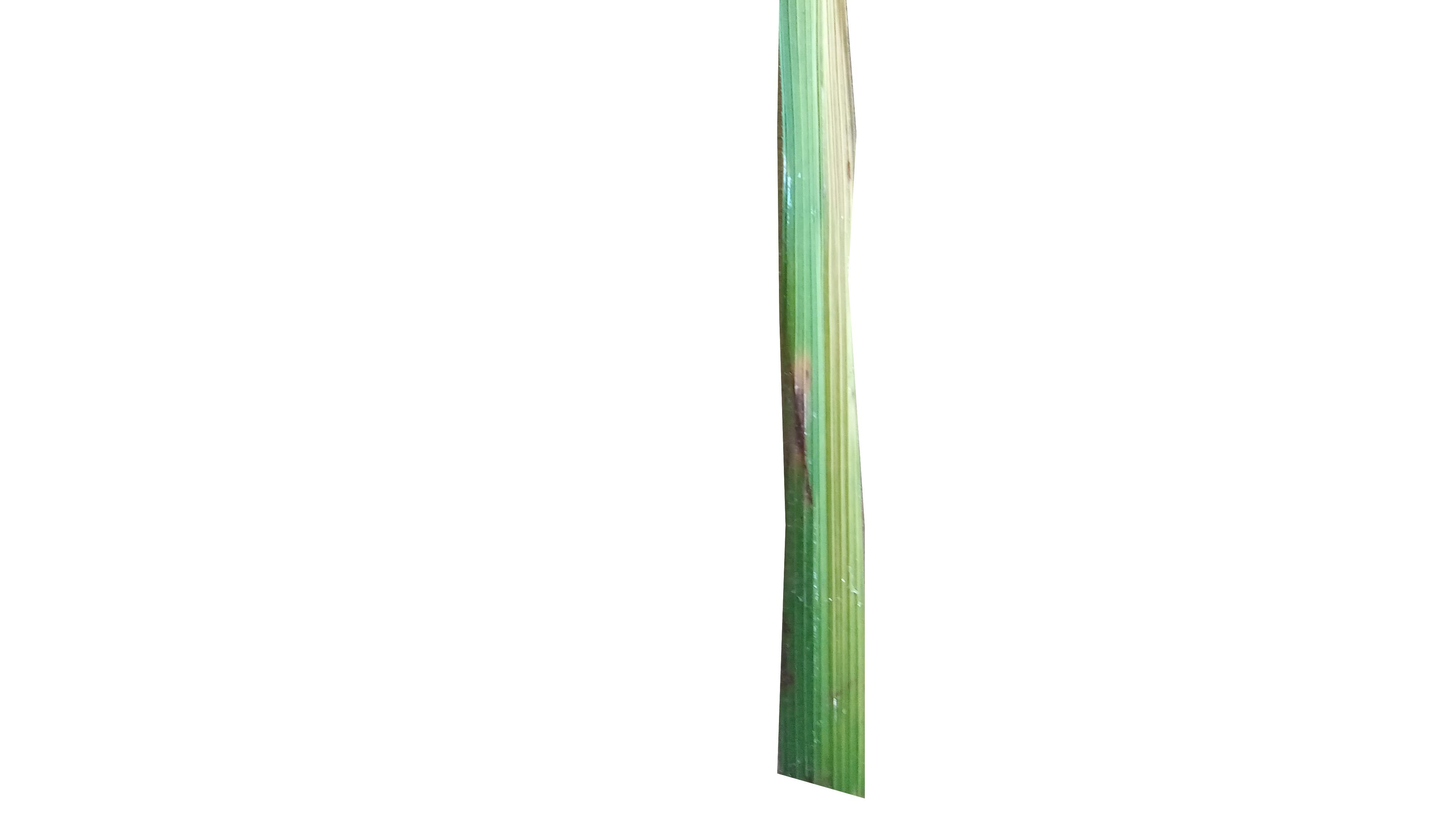Rice blast: (784, 339, 831, 528)
